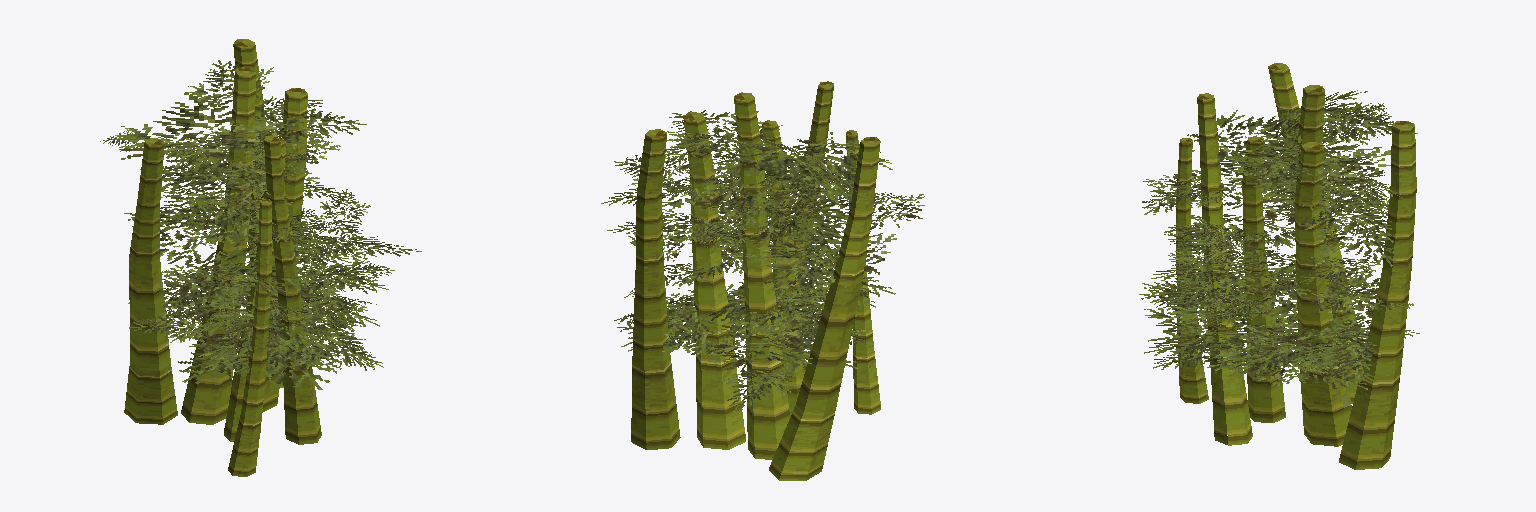
3 renders of one model, left to right at view 1: azimuth 30°, elevation 25°; view 2: azimuth 150°, elevation 25°; view 3: azimuth 270°, elevation 25°, orthographic.
Parts seen in each view (by area): view 1: plantpottedbamboo_surface; view 2: plantpottedbamboo_surface; view 3: plantpottedbamboo_surface.
Boxes of the visible parts, <box> form: plantpottedbamboo_surface: <box>100,39,421,476</box>; plantpottedbamboo_surface: <box>601,81,924,480</box>; plantpottedbamboo_surface: <box>1139,63,1419,469</box>.
Size of the model in its own units: 1.41 by 1.98 by 1.51.
Materials: 1 (1 with a texture image).